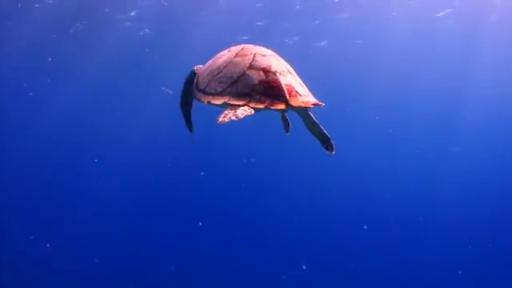Fish: (181, 44, 334, 152)
